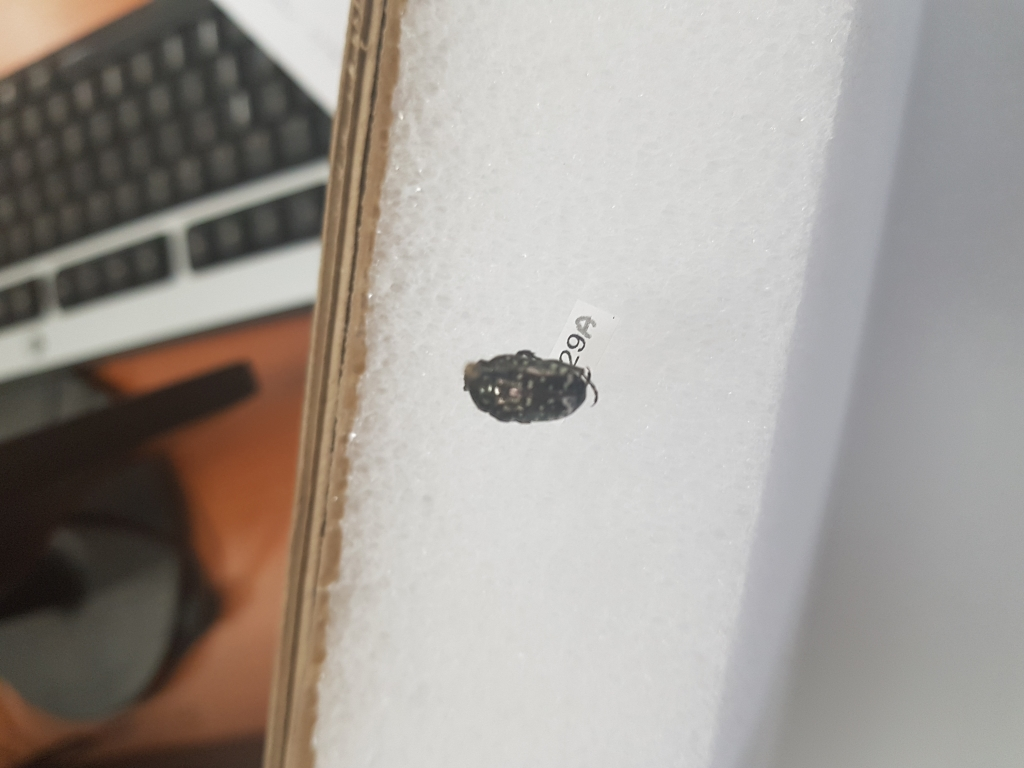Oxythyrea_funesta: (462, 340, 605, 427)
